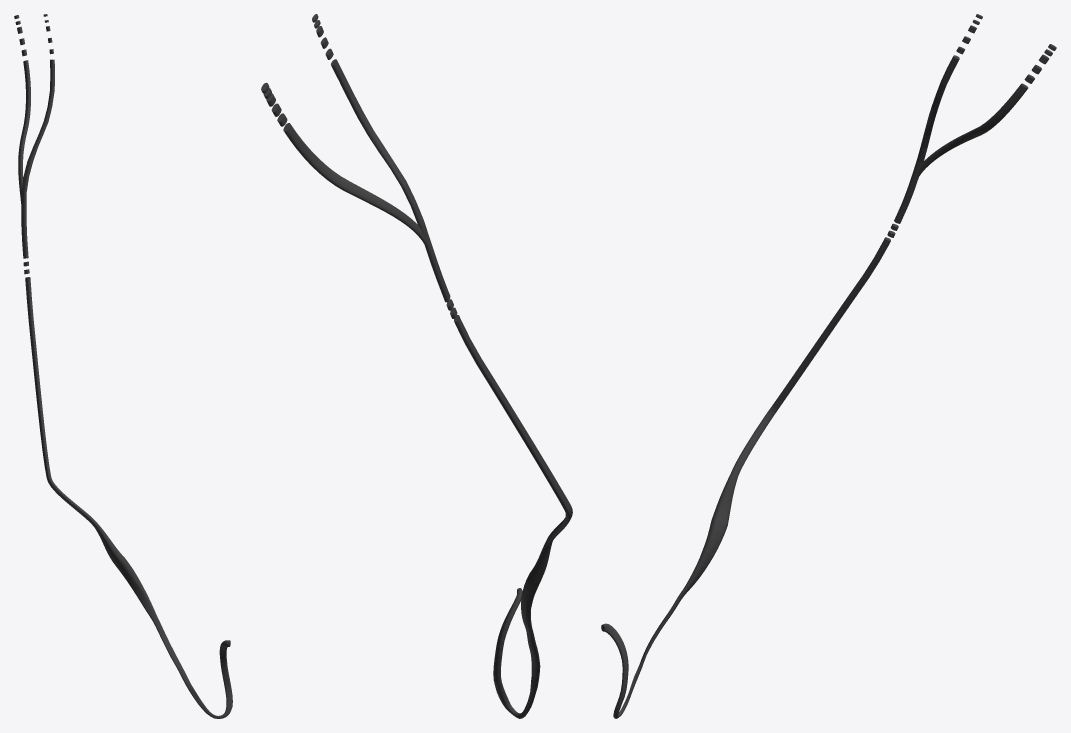
File: N_10_vagus.glb
3 renders of one model, left to right at view 1: azimuth 30°, elevation 25°; view 2: azimuth 150°, elevation 25°; view 3: azimuth 270°, elevation 25°, orthographic. The views are drawn at different scales.
Visible parts, largest first — view 1: N_10_vagus; view 2: N_10_vagus; view 3: N_10_vagus.
Part boxes in pixels (x1,y1,x2,y2): N_10_vagus: (14,14,232,718); N_10_vagus: (261,14,572,718); N_10_vagus: (601,14,1056,718).
Size of the model in its own units: 0.00927 by 0.0447 by 0.0267.
1 material, 1 textured.
